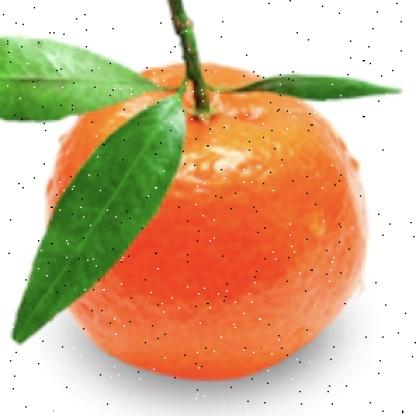fresh: (50, 50, 364, 382)
